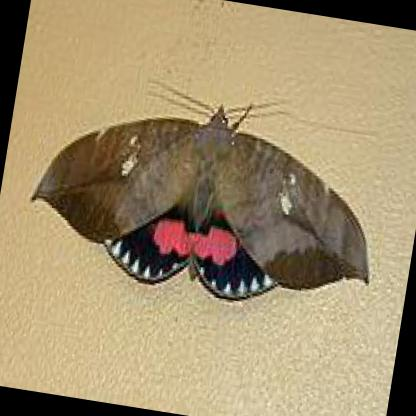fruit sucking moth: (34, 102, 368, 302)
